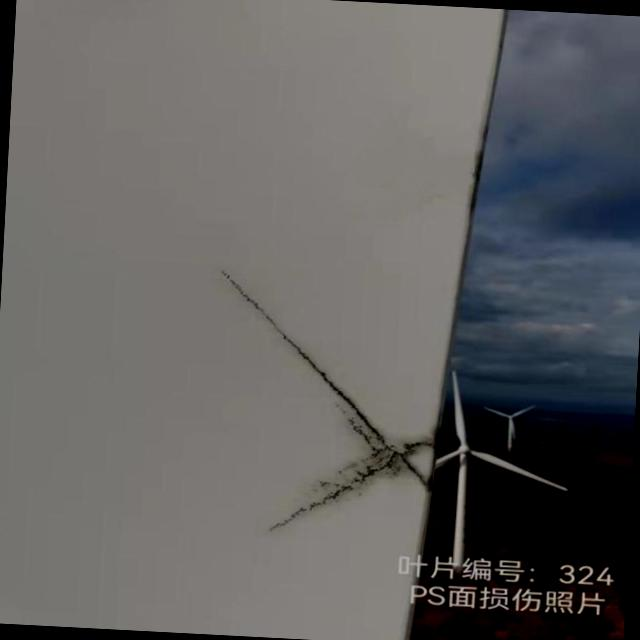crack: (212, 272, 439, 531)
